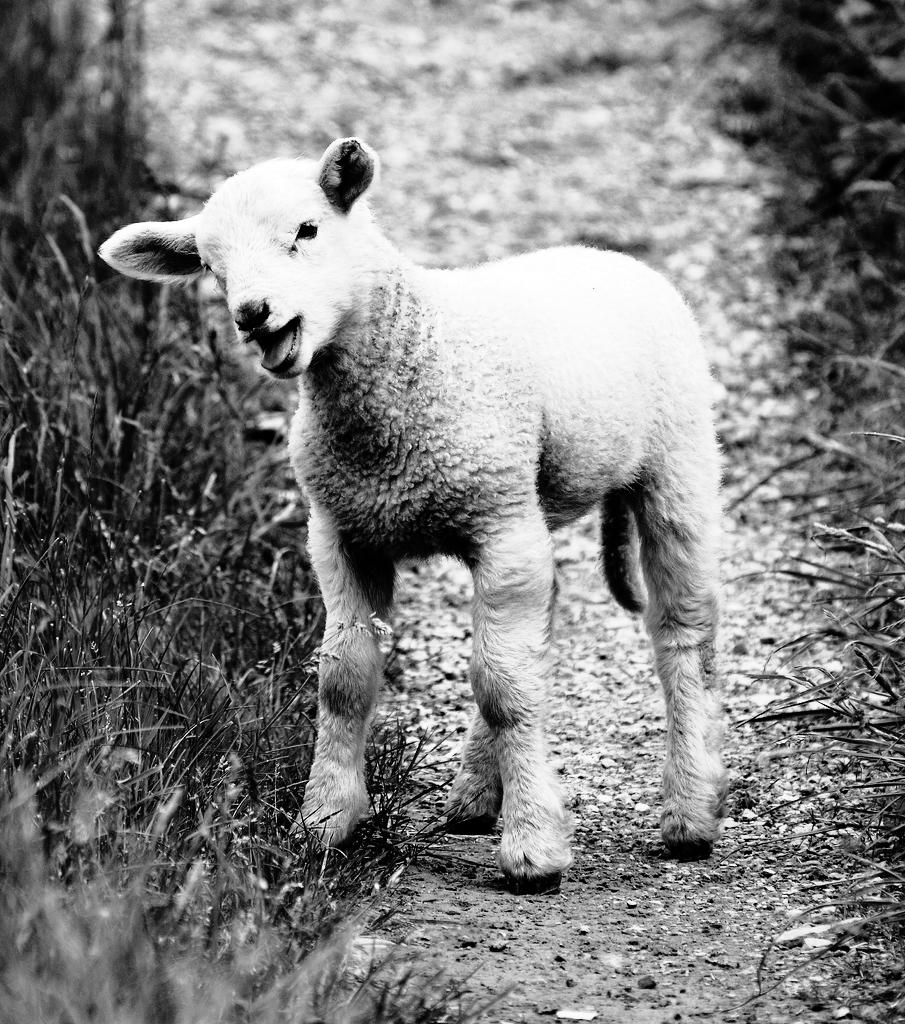Sheep: (98, 140, 718, 892)
